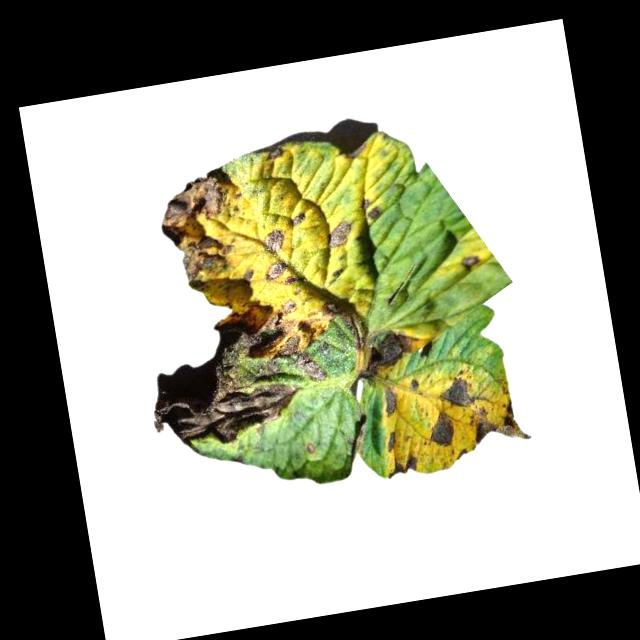Early_blight: (144, 347, 302, 457), (153, 166, 252, 295), (205, 275, 314, 371), (354, 326, 424, 386), (471, 397, 535, 451), (319, 286, 371, 350), (436, 374, 479, 411), (425, 409, 459, 450), (295, 352, 326, 386), (385, 450, 421, 479), (325, 217, 353, 250), (380, 383, 405, 419), (260, 258, 293, 285), (263, 227, 288, 255), (461, 250, 485, 276), (261, 143, 288, 165), (241, 264, 259, 285), (385, 430, 402, 452), (287, 212, 309, 229)
